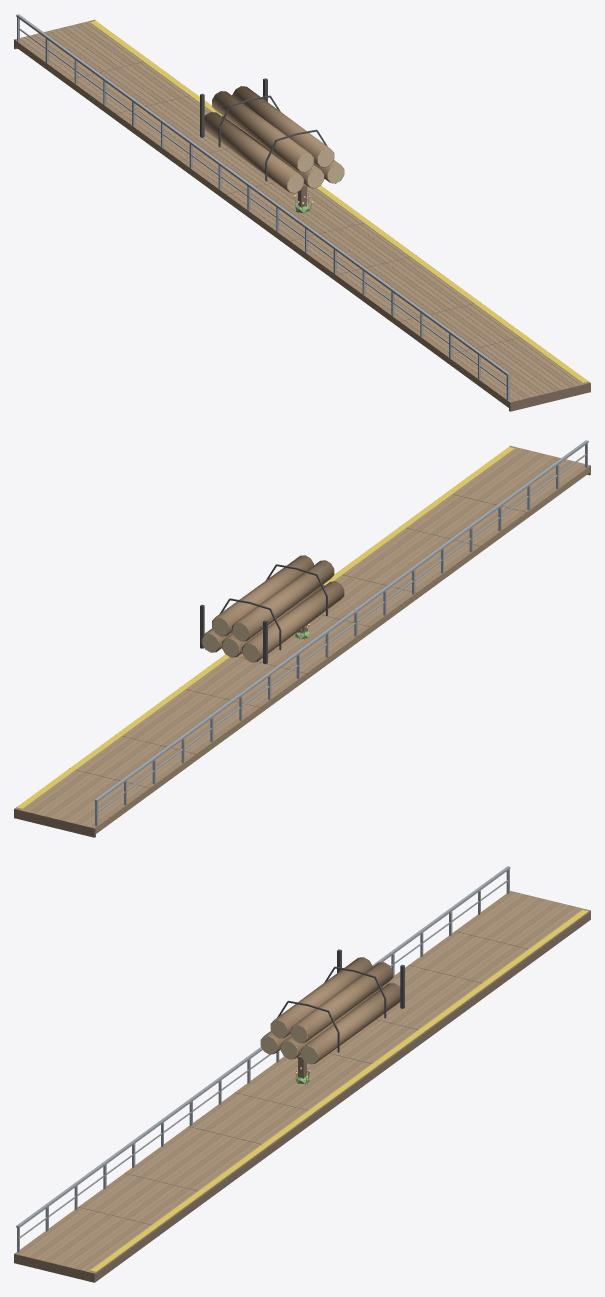
The model's file is freight_bits.glb.
3 renders of one model, top to bottom at view 1: azimuth 30°, elevation 25°; view 2: azimuth 150°, elevation 25°; view 3: azimuth 330°, elevation 25°, orthographic.
Parts seen in each view (by area): view 1: fq_platform_mesh, fq_logs_mesh; view 2: fq_platform_mesh, fq_logs_mesh; view 3: fq_platform_mesh, fq_logs_mesh.
Part boxes in pixels (x1,y1,x2,y2): fq_platform_mesh: (14, 14, 590, 411); fq_logs_mesh: (200, 78, 344, 193); fq_platform_mesh: (14, 440, 590, 837); fq_logs_mesh: (200, 555, 344, 663); fq_platform_mesh: (14, 866, 590, 1282); fq_logs_mesh: (260, 949, 404, 1064).
Size of the model in its own units: 3.2 by 3.15 by 34.04.
